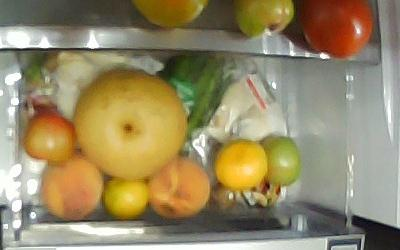peach: (41, 156, 103, 222), (148, 157, 210, 220)
pear: (74, 69, 187, 180)
tangerine: (215, 139, 267, 189), (104, 176, 148, 219)
tomato: (23, 113, 76, 162), (263, 136, 301, 187)
